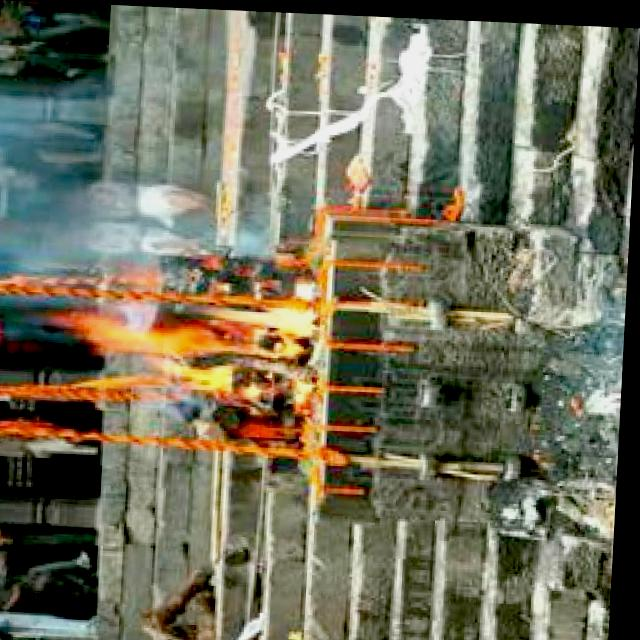Fire: (77, 266, 320, 404)
